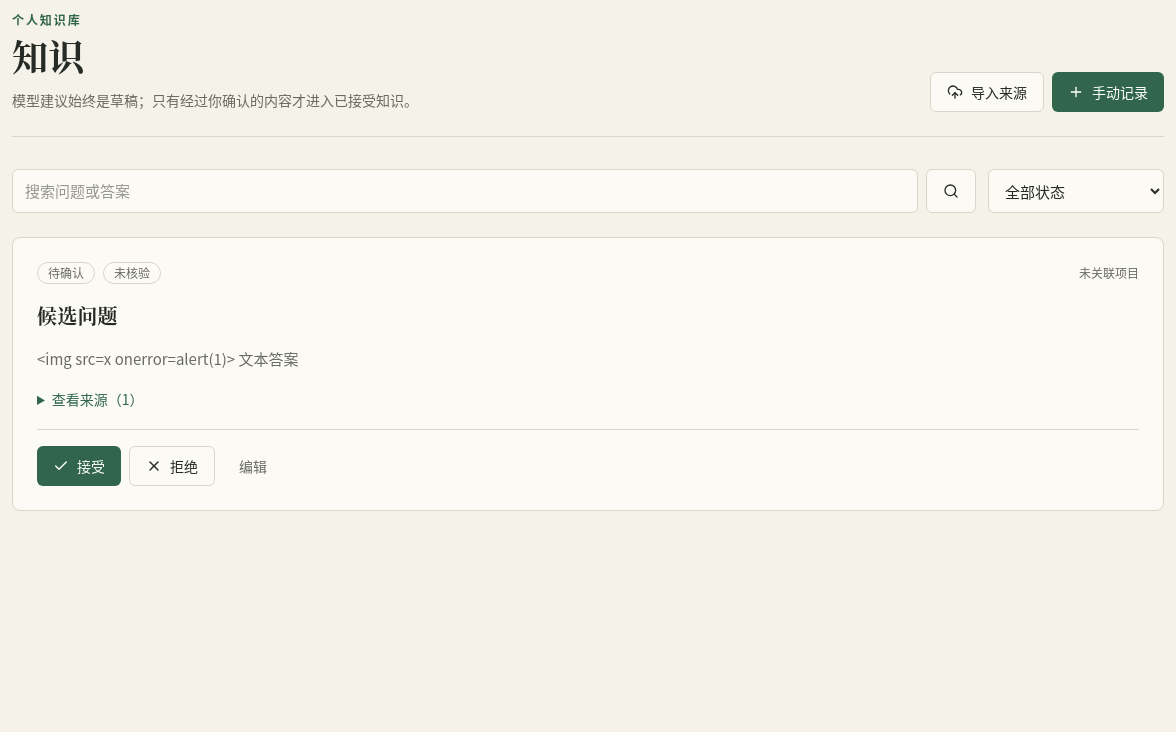
Test case: 候选知识与失败保留 › 显示结构化来源并携带实际修订接受草稿，不渲染答案 HTML
The width and height of the screenshot is (1176, 732).
Later steps or results of the test are not shown.
Expected: the text "<img src=x onerror=alert(1)> 文本答案" is shown, left=37, top=348, right=298, bottom=368
Click the heading "查看来源（1）" at (98, 398), box left=52, top=388, right=144, bottom=408
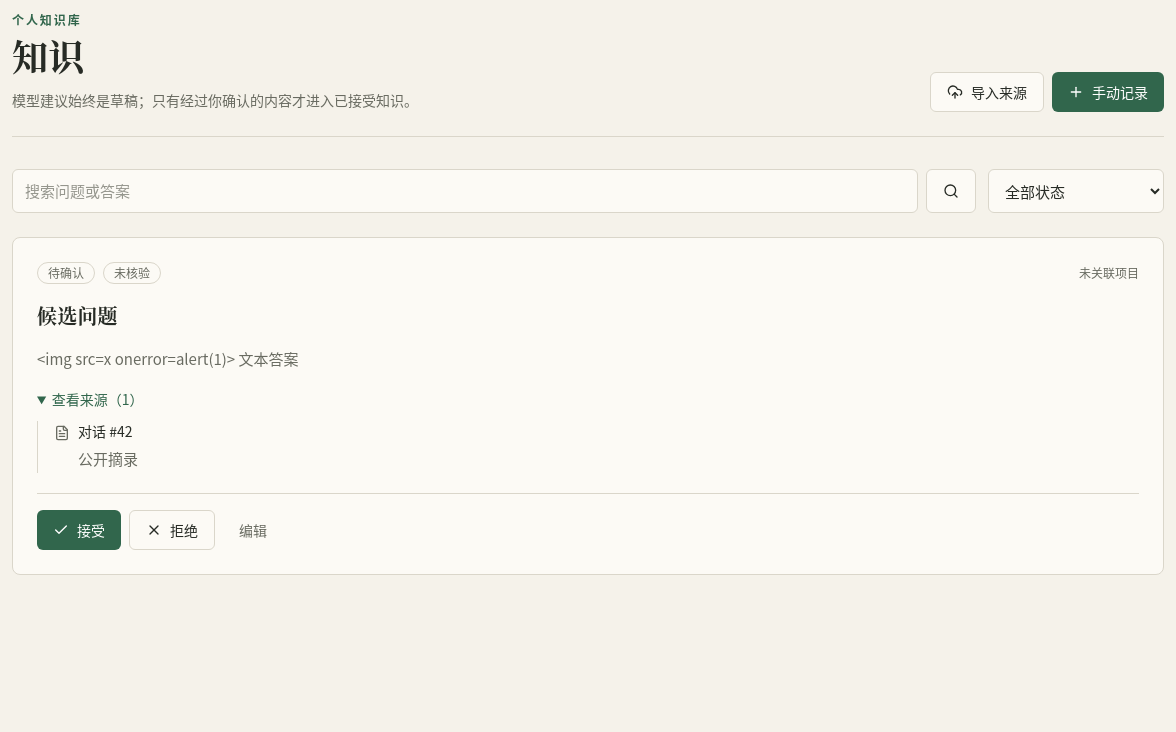
Now the text "对话 #42" is shown, box left=78, top=420, right=138, bottom=440
Now the text "公开摘录" is shown, box left=78, top=444, right=138, bottom=472
